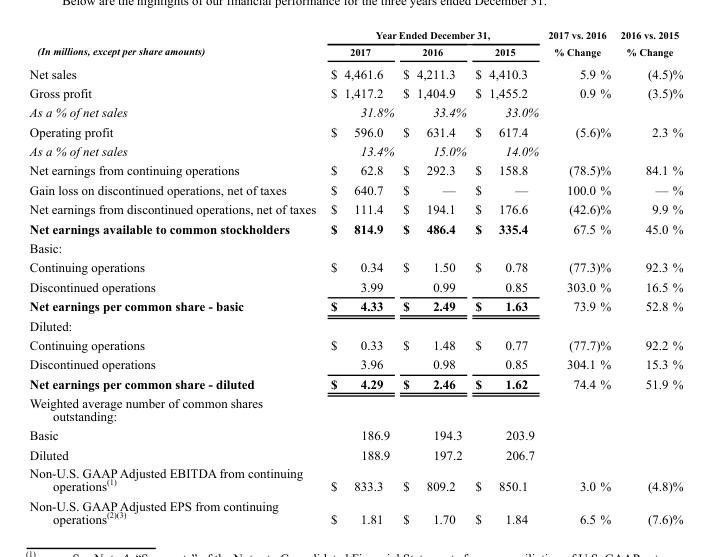table: (28, 28, 682, 526)
table column: (28, 28, 322, 526), (322, 28, 397, 526), (397, 28, 470, 526), (542, 28, 615, 526), (470, 28, 542, 526), (615, 28, 682, 526)
table column header: (28, 28, 682, 61)
table projected row header: (28, 392, 682, 425), (28, 237, 682, 257), (28, 315, 682, 334)
table row: (28, 392, 682, 425), (28, 463, 682, 495), (28, 495, 682, 526), (28, 61, 682, 82), (28, 82, 682, 102), (28, 121, 682, 141), (28, 179, 682, 199), (28, 237, 682, 257), (28, 276, 682, 296), (28, 334, 682, 354), (28, 102, 682, 121), (28, 141, 682, 160), (28, 160, 682, 179), (28, 199, 682, 218), (28, 218, 682, 237), (28, 257, 682, 276), (28, 296, 682, 315), (28, 315, 682, 334), (28, 354, 682, 373), (28, 373, 682, 392), (28, 425, 682, 444), (28, 444, 682, 463), (28, 43, 682, 61), (28, 28, 682, 43)
table spanning cell: (28, 28, 322, 61), (322, 28, 542, 43), (542, 28, 615, 61), (615, 28, 682, 61)
